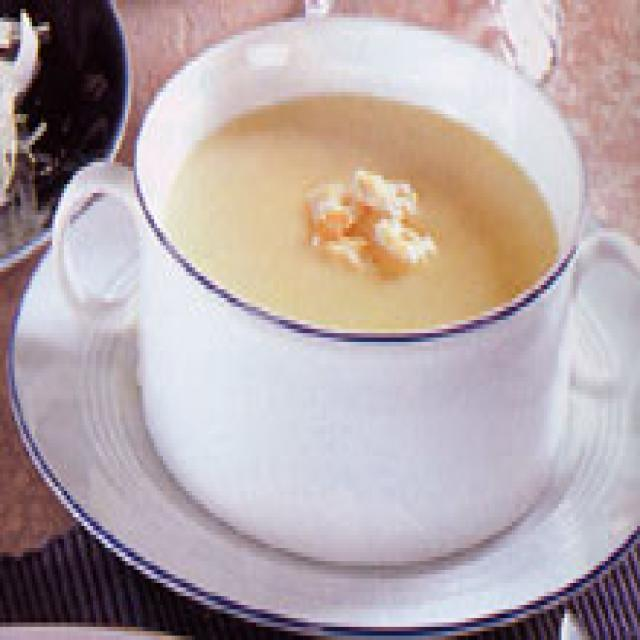汤锅炖物: (3, 4, 640, 640)
